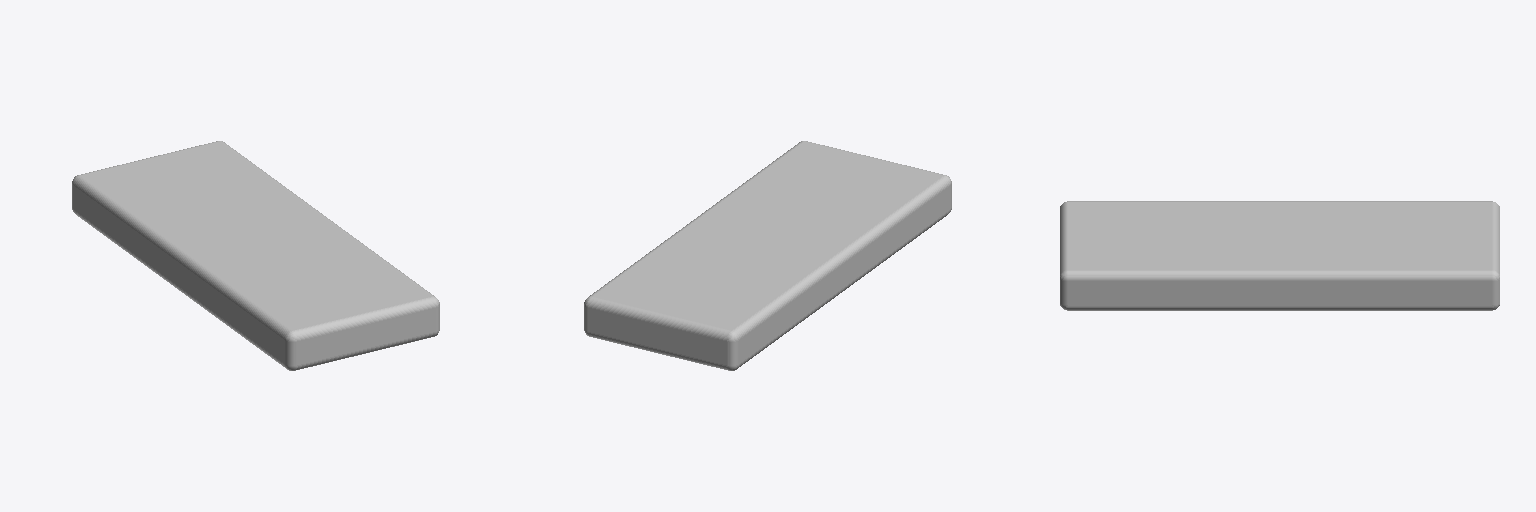
The model's file is MATRESS_3.obj.
3 renders of one model, left to right at view 1: azimuth 30°, elevation 25°; view 2: azimuth 150°, elevation 25°; view 3: azimuth 270°, elevation 25°, orthographic.
Visible parts, largest first — view 1: Cube.005_Cube.016; view 2: Cube.005_Cube.016; view 3: Cube.005_Cube.016.
Part boxes in pixels (x1,y1,x2,y2): Cube.005_Cube.016: (72,141,439,370); Cube.005_Cube.016: (584,141,951,370); Cube.005_Cube.016: (1060,201,1499,310).
Size of the model in its own units: 0.8141 by 0.2017 by 2.02.